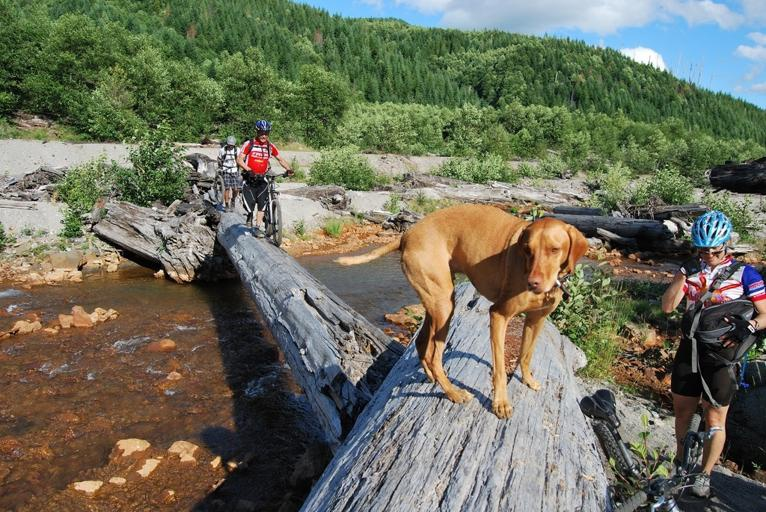non-vehicle: (579, 388, 721, 511), (250, 171, 294, 246), (213, 164, 233, 204)
